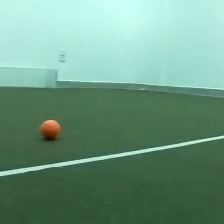ball: (38, 117, 62, 142)
goal: (1, 65, 60, 90)
